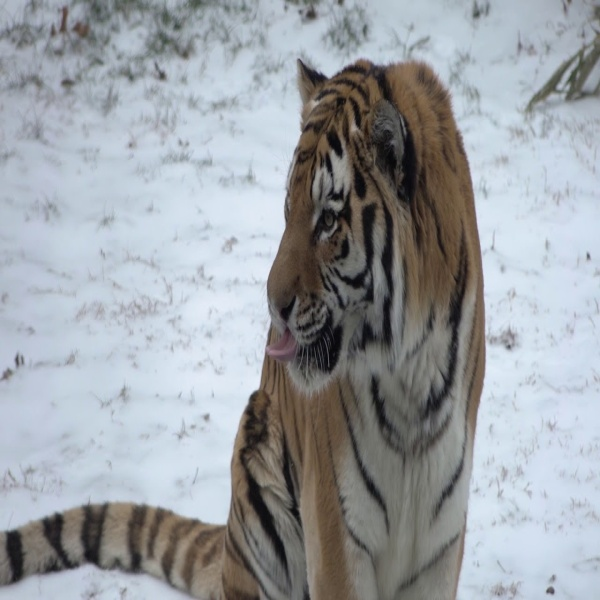Tiger: (3, 55, 491, 600)
